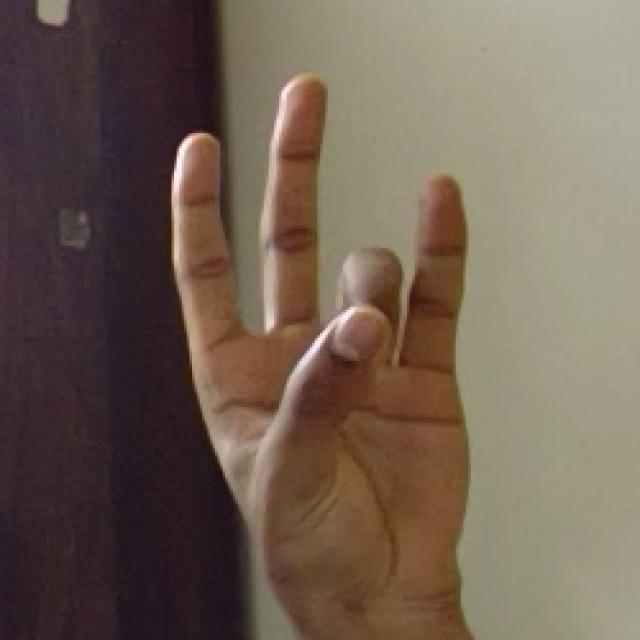Numeric-7: (163, 67, 475, 617)
